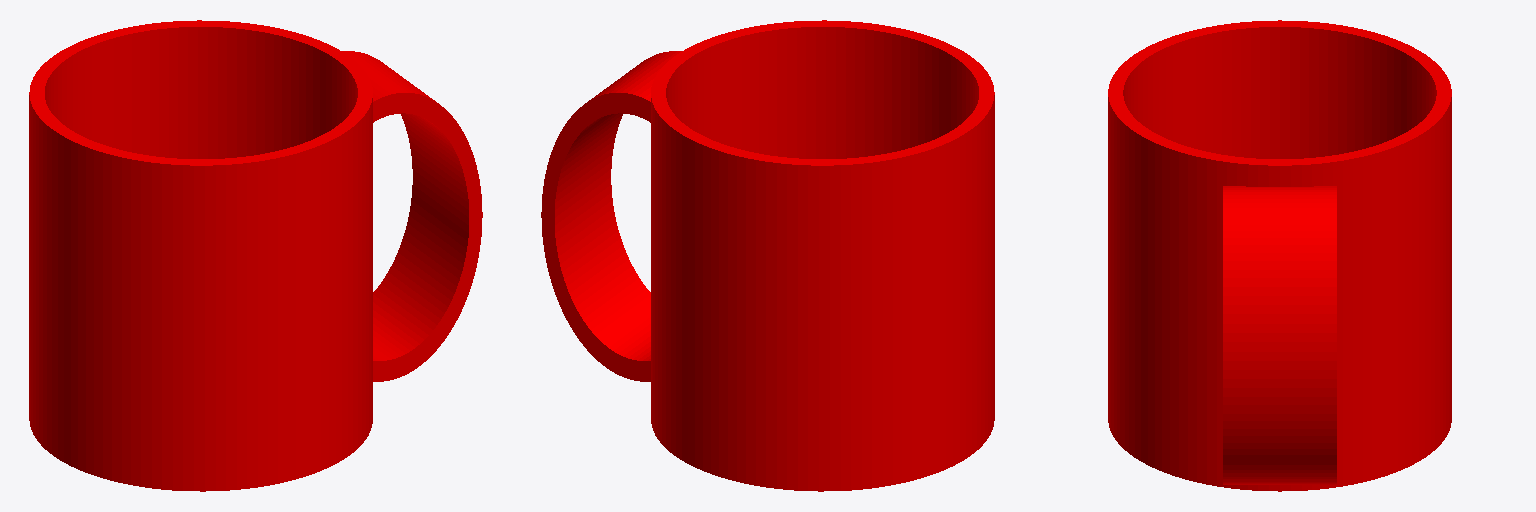
URDF robot description (mug.urdf):
<?xml version="1.0" ?>
<robot name="mug.urdf">
  <link name="baseLink">
    <inertial>
      <origin rpy="0 0 0" xyz="0 0 0"/>
       <mass value=".1"/>
       <inertia ixx="1" ixy="0" ixz="0" iyy="1" iyz="0" izz="1"/>
    </inertial>
    <visual>
      <origin rpy="0 0 0" xyz="0 0 0"/>
      <geometry>
        <mesh filename="11.stl" scale="1 1 1" />
      </geometry>
      <material name="red">
        <color rgba="1 0 0 1"/>
      </material>
    </visual>
    <collision>
      <origin rpy="0 0 0" xyz="0 0 0"/>
      <geometry>
        <mesh filename="11_convex.obj" scale="1 1 1" />
      </geometry>
    </collision>
  </link>
</robot>

--- Render facts (derived) ---
3 views of the same robot in one strip: view 1: azimuth 30°, elevation 25°; view 2: azimuth 150°, elevation 25°; view 3: azimuth 270°, elevation 25° (orthographic).
Model mug.urdf with 1 links and 0 joints (none), rooted at baseLink, posed every joint at zero.
Links seen in each view (by area): view 1: baseLink; view 2: baseLink; view 3: baseLink.
Boxes of the visible links, x1,y1,x2,y2 form: baseLink: (29, 20, 482, 491); baseLink: (541, 20, 994, 491); baseLink: (1108, 20, 1451, 491).
Bounding box of the posed robot: 0.1537 × 0.1138 × 0.1191 m (x, y, z).
Meshes: 1 distinct files referenced, 1 mesh visuals loaded (1 binary STL).